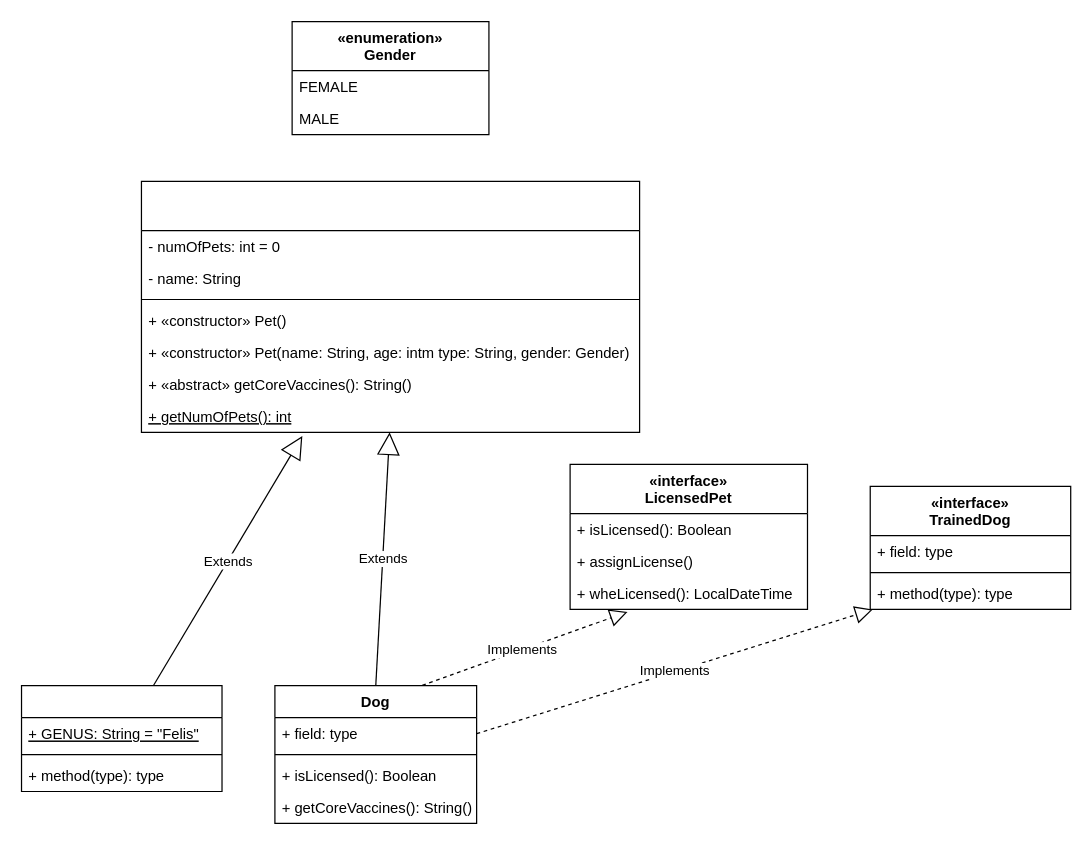
The diagram is 1092 pixels wide and 849 high, and some of its shapes have lost their labels. The box of each missing label's shape, as (x1, y1, x2, y2) in pixels:
Cat: (20, 684, 222, 792)
«abstract» Pet: (140, 180, 640, 432)
